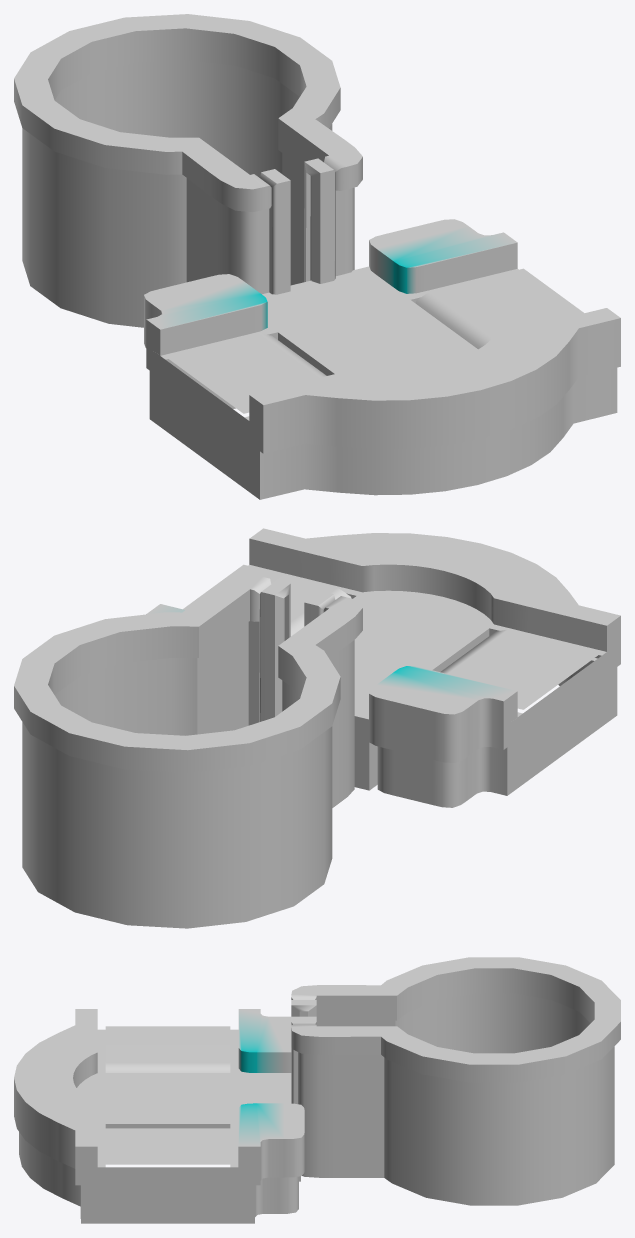
File: Main_LOD1.fbx
The picture shows the model from 3 angles, top to bottom: view 1: azimuth 30°, elevation 25°; view 2: azimuth 150°, elevation 25°; view 3: azimuth 270°, elevation 25°; orthographic projection. The views are drawn at different scales.
Parts seen in each view (by area): view 1: Main.001; view 2: Main.001; view 3: Main.001.
Part boxes in pixels (x1,y1,x2,y2): Main.001: (14,14,620,499); Main.001: (14,528,620,928); Main.001: (14,957,620,1223).
Size of the model in its own units: 1 by 0.4866 by 1.86.
